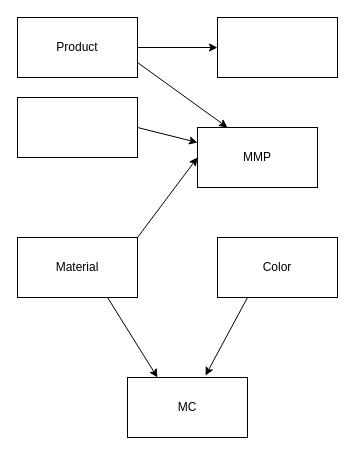
The diagram is 355 pixels wide and 455 high, and some of its shapes have lost their labels. The centre of each missing label's shape, as x and y in pixels:
Machine: the point at 77,127
Size: the point at 277,47
